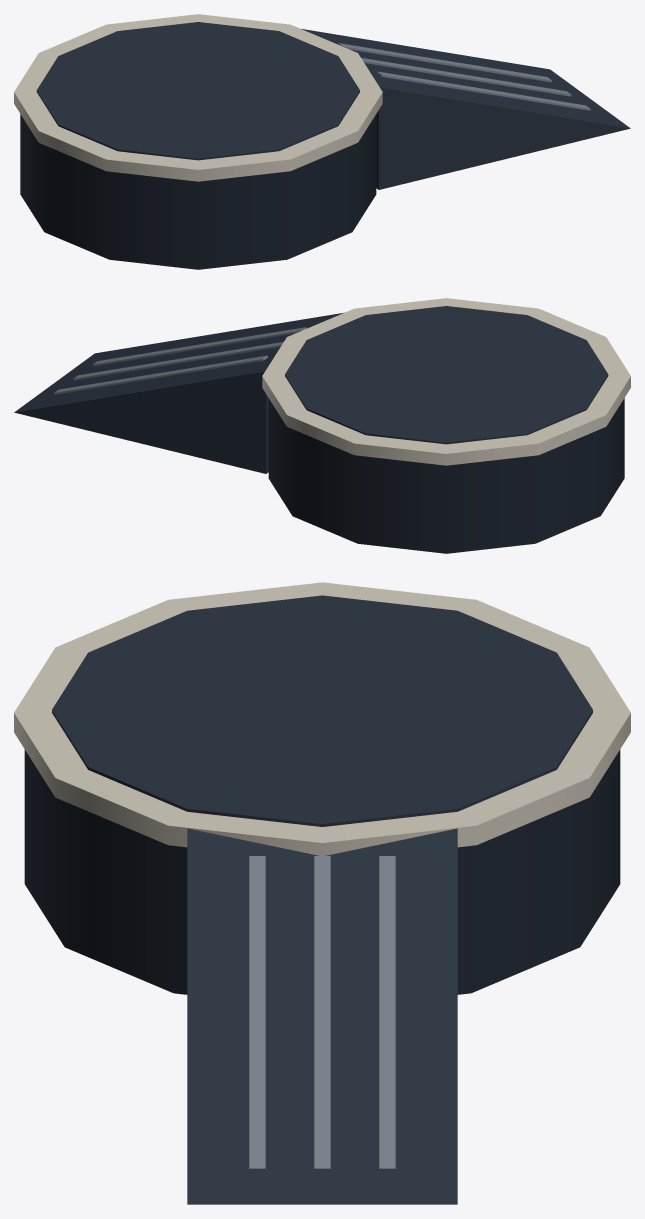
The model's file is plataforma_metal.glb.
3 renders of one model, top to bottom at view 1: azimuth 30°, elevation 25°; view 2: azimuth 150°, elevation 25°; view 3: azimuth 270°, elevation 25°, orthographic. The views are drawn at different scales.
Parts seen in each view (by area): view 1: plataforma_malha; view 2: plataforma_malha; view 3: plataforma_malha.
Part boxes in pixels (bbox=[...]): plataforma_malha: bbox=[14, 14, 630, 269]; plataforma_malha: bbox=[14, 298, 630, 553]; plataforma_malha: bbox=[14, 582, 630, 1204].
Size of the model in its own units: 1.97 by 0.356 by 1.14.
